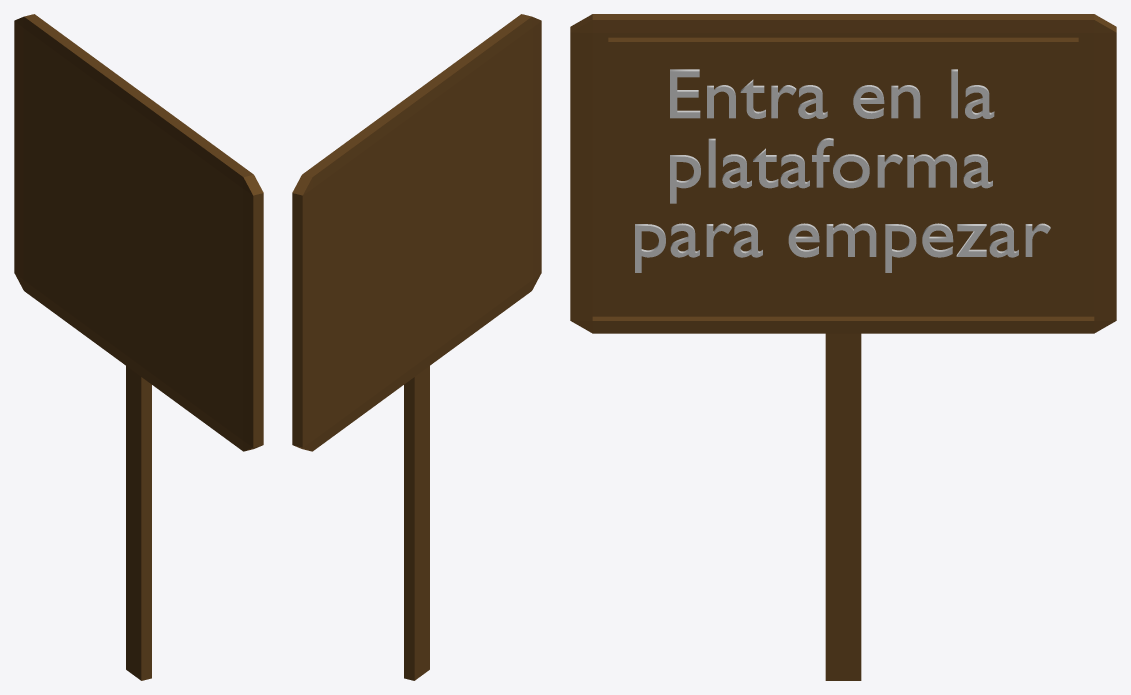
Rendered from Info4.fbx.
3 renders of one model, left to right at view 1: azimuth 30°, elevation 25°; view 2: azimuth 150°, elevation 25°; view 3: azimuth 270°, elevation 25°, orthographic. The views are drawn at different scales.
Visible parts, largest first — view 1: Cube.002; view 2: Cube.002; view 3: Cube.002.
Boxes of the visible parts, left/top/right/bottom form: Cube.002: left=14, top=14, right=263, bottom=680; Cube.002: left=292, top=14, right=541, bottom=680; Cube.002: left=570, top=14, right=1116, bottom=680.
Bounding box in the file's own units: 3.02 × 112 × 84.21.
